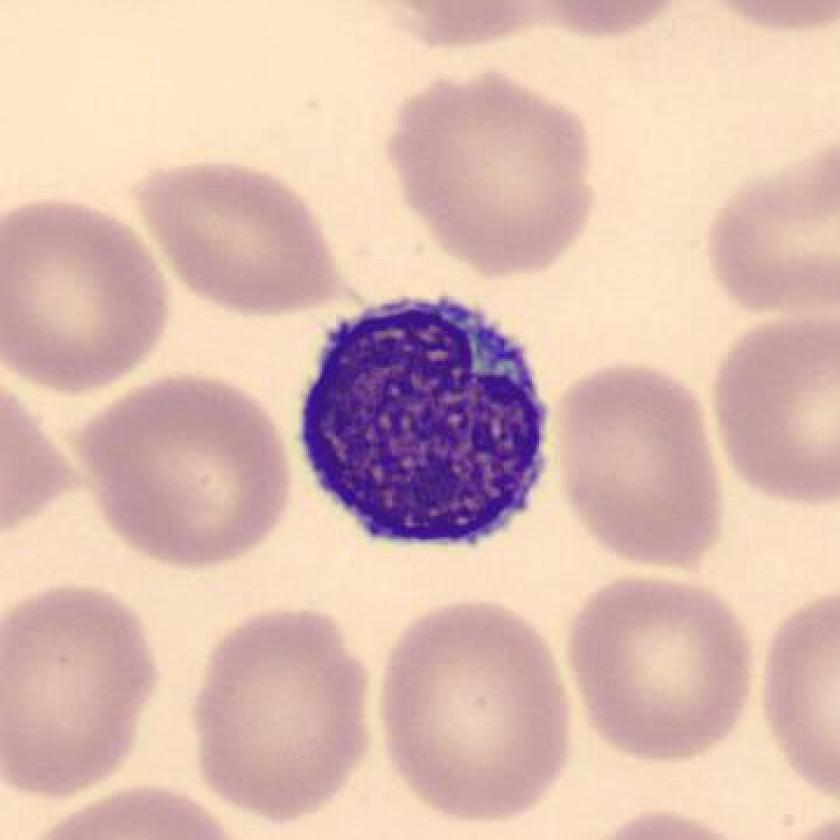lymphocyte: (290, 284, 561, 564)
